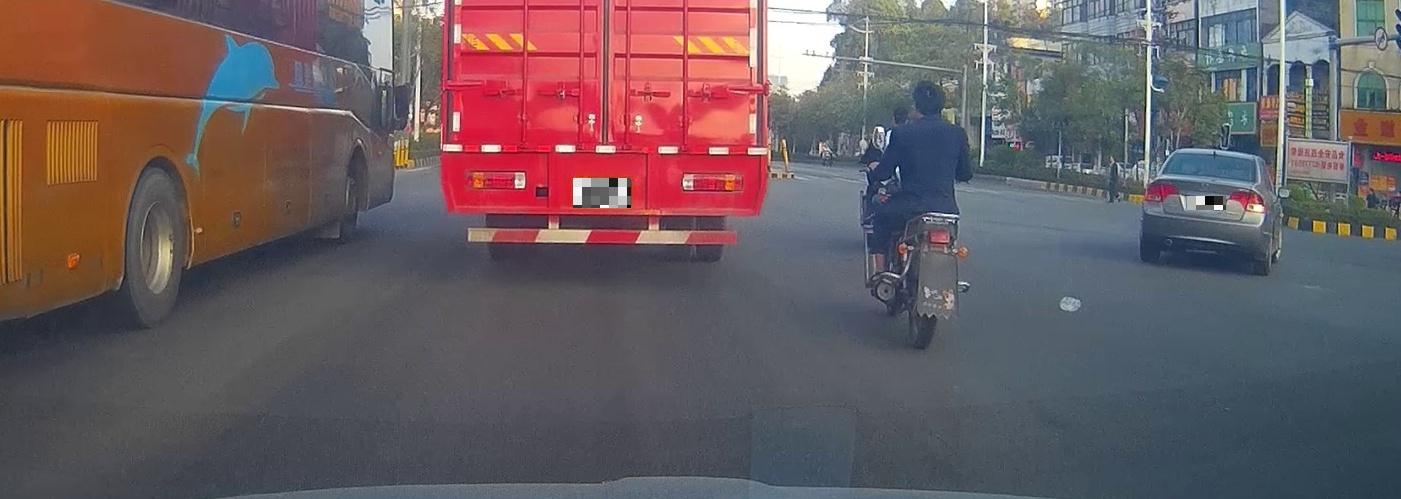L_light: (1144, 181, 1179, 202)
R_light: (1229, 188, 1266, 213)
T_light: (1207, 153, 1224, 159)
day-right: (1140, 149, 1267, 272)
plate_1: (573, 178, 631, 208)
plate_2: (1187, 196, 1226, 210)
